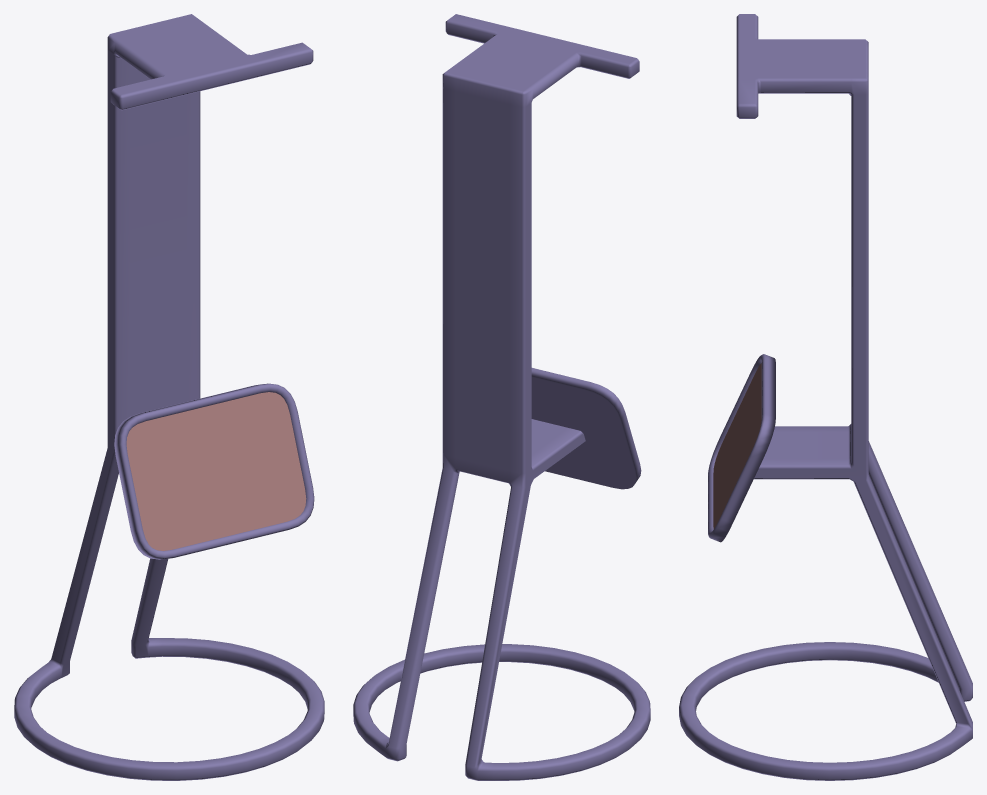
Rendered from StandCorridor.fbx.
3 views of the same model, side by side, from view 1: azimuth 30°, elevation 25°; view 2: azimuth 150°, elevation 25°; view 3: azimuth 270°, elevation 25° (orthographic). The views are drawn at different scales.
Visible parts, largest first — view 1: Stand, Text; view 2: Stand; view 3: Stand, Text.
Boxes of the visible parts, x1,y1,x2,y2 form: Stand: (14,14,324,780); Text: (126,392,306,550); Stand: (353,14,650,780); Stand: (679,14,972,780); Text: (713,363,761,529).
Size of what is drawn, in the model's own units: 97.11 by 234 by 94.55.
